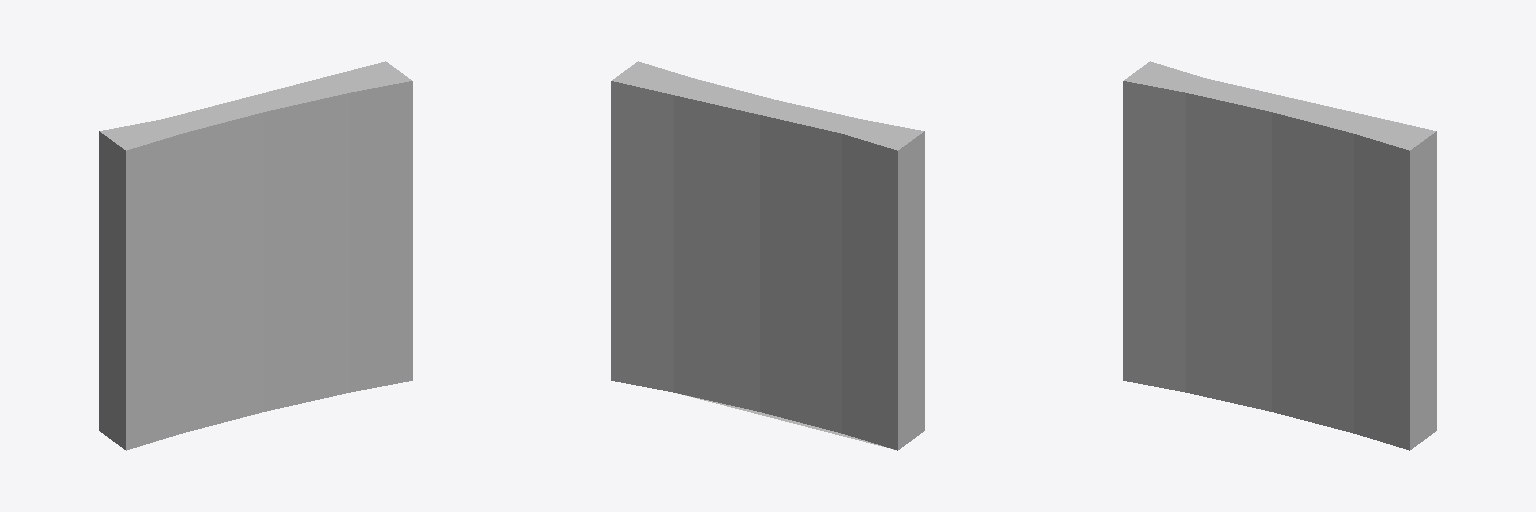
The model's file is lens_2.obj.
The picture shows the model from 3 angles: view 1: azimuth 30°, elevation 25°; view 2: azimuth 150°, elevation 25°; view 3: azimuth 330°, elevation 25°; orthographic projection.
Parts seen in each view (by area): view 1: Cube; view 2: Cube; view 3: Cube.
Part boxes in pixels (x1,y1,x2,y2): Cube: (99,61,412,450); Cube: (611,61,924,450); Cube: (1123,61,1436,450).
Size of the model in its own units: 2 by 2 by 0.3223.